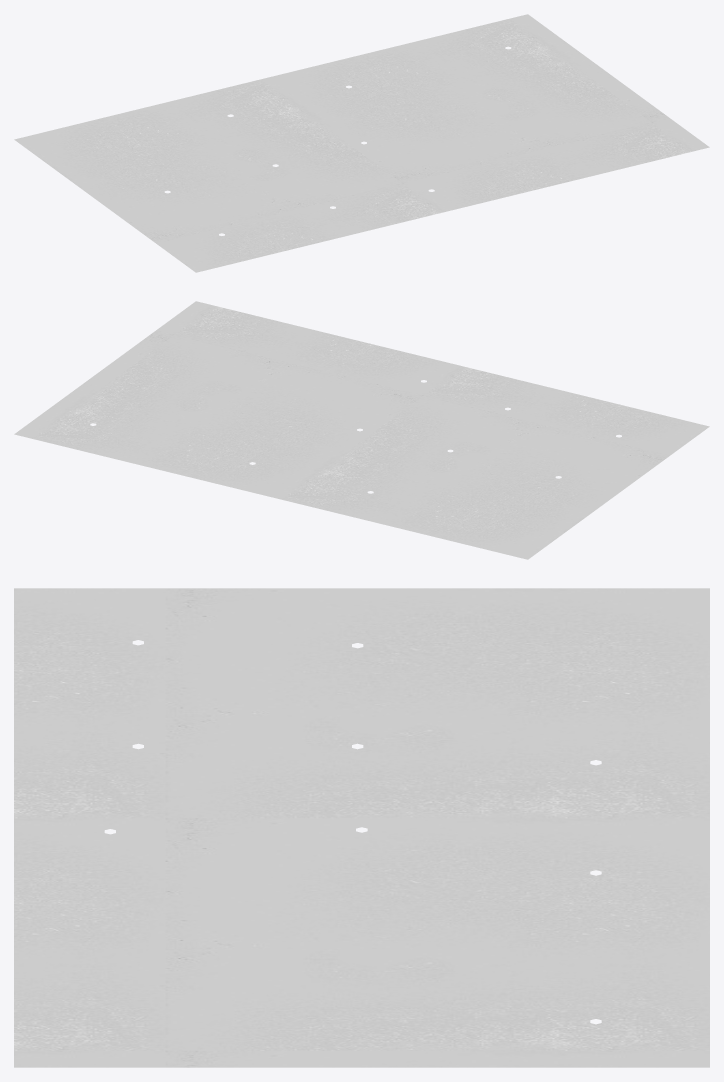
The model's file is Ceiling.fbx.
3 views of the same model, one above another, from view 1: azimuth 30°, elevation 25°; view 2: azimuth 150°, elevation 25°; view 3: azimuth 270°, elevation 25° (orthographic). The views are drawn at different scales.
Visible parts, largest first — view 1: Basic Ceiling Generic [351456]; view 2: Basic Ceiling Generic [351456]; view 3: Basic Ceiling Generic [351456].
Boxes of the visible parts, bbox=[...] form: Basic Ceiling Generic [351456]: bbox=[14, 14, 709, 272]; Basic Ceiling Generic [351456]: bbox=[14, 301, 709, 559]; Basic Ceiling Generic [351456]: bbox=[14, 588, 709, 1067].
Size of the model in its own units: 12.94 by 8.88e-16 by 7.94.
Materials: 1 (1 with a texture image).
